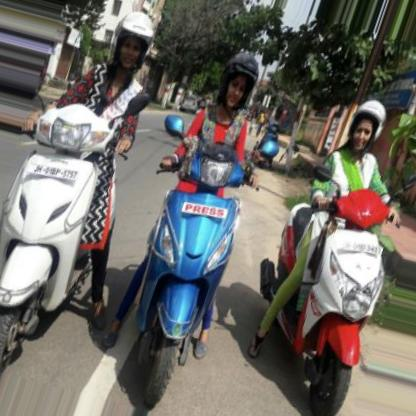with helmet: (215, 52, 260, 114), (106, 11, 153, 70), (347, 99, 387, 154)
